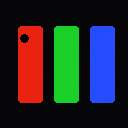0 point: (20, 34, 28, 42)
